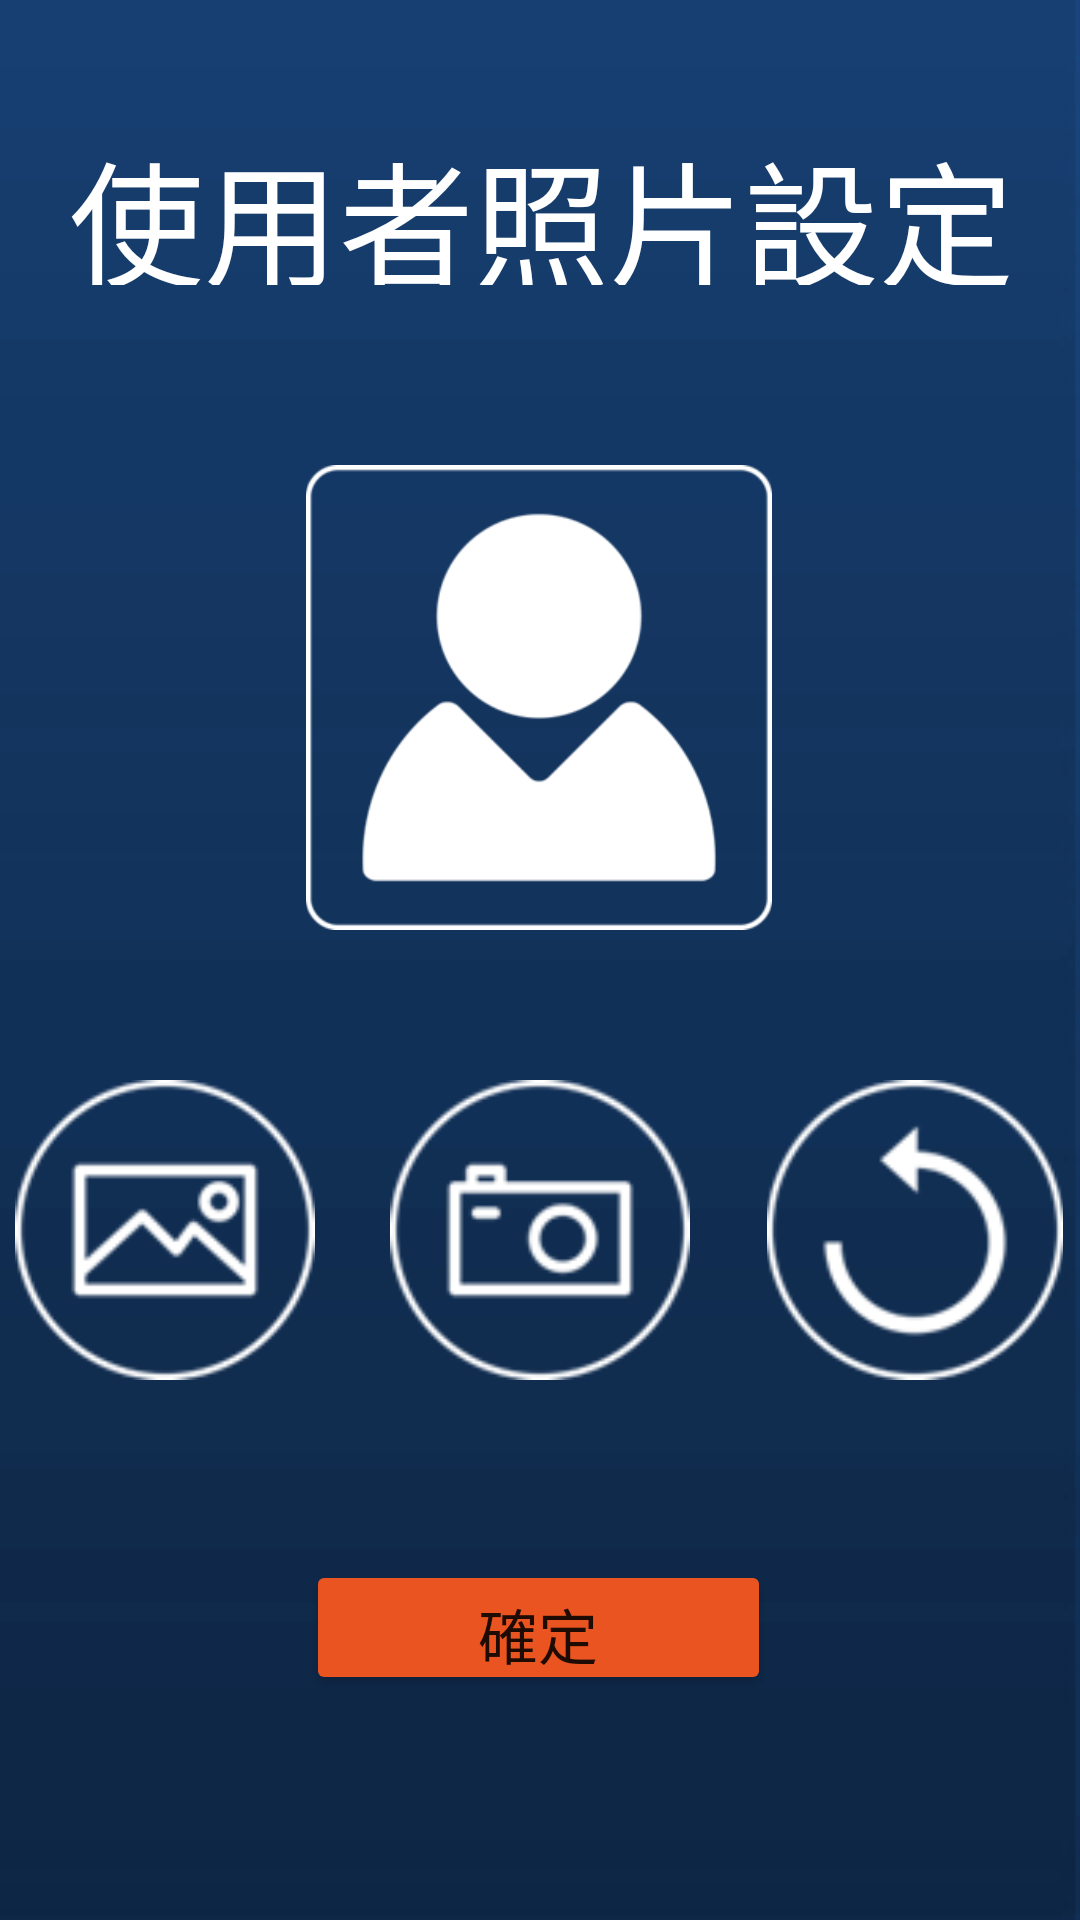

Point at icon controls on the screen. Image size 1080w x 1920h, points as (x,y).
album: (165,1230)
camera: (540,1230)
reset: (915,1230)
